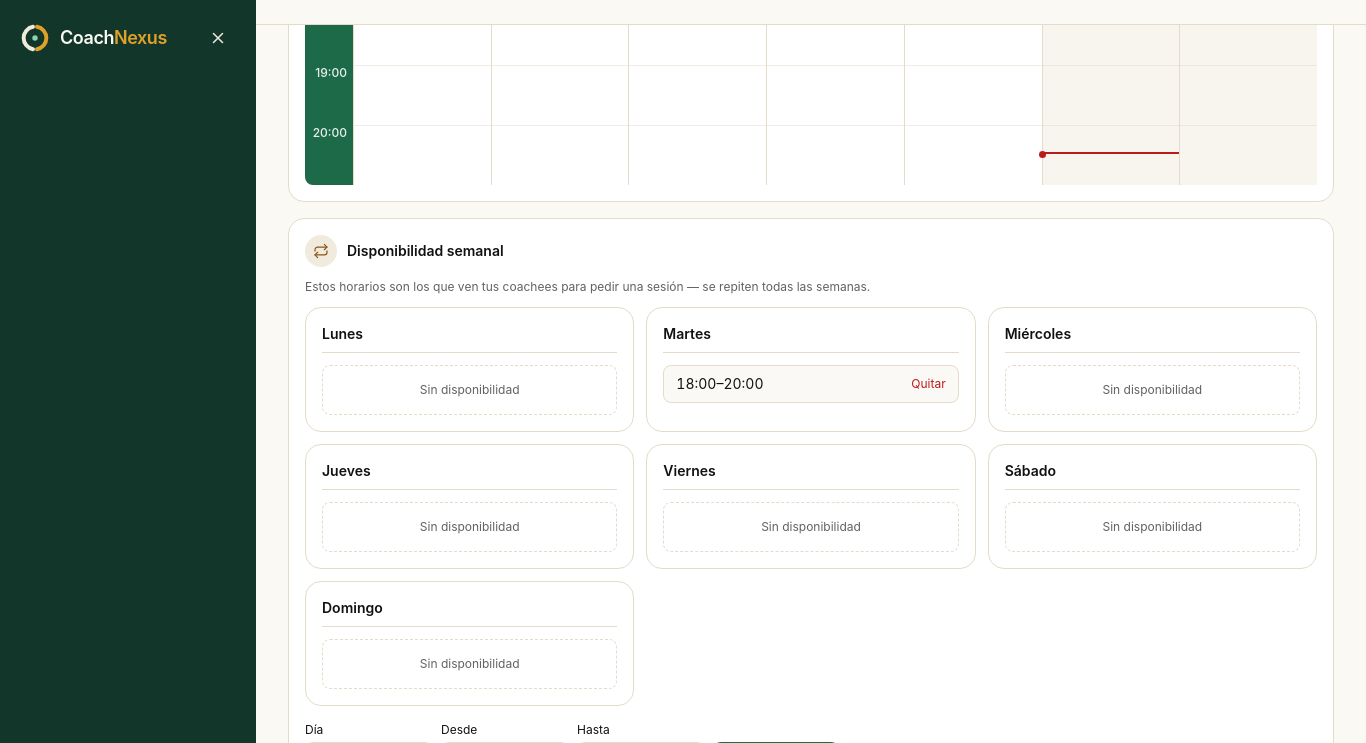
it: AgendaView › Disponibilidad semanal como tarjetas por día › elimina un bloque al hacer clic en "Quitar" dentro de su tarjeta de día
(page scrolled)
Click the button "Quitar" at {"x": 928, "y": 384}, box x1=911 y1=376 x2=946 y2=392
(page scrolled)
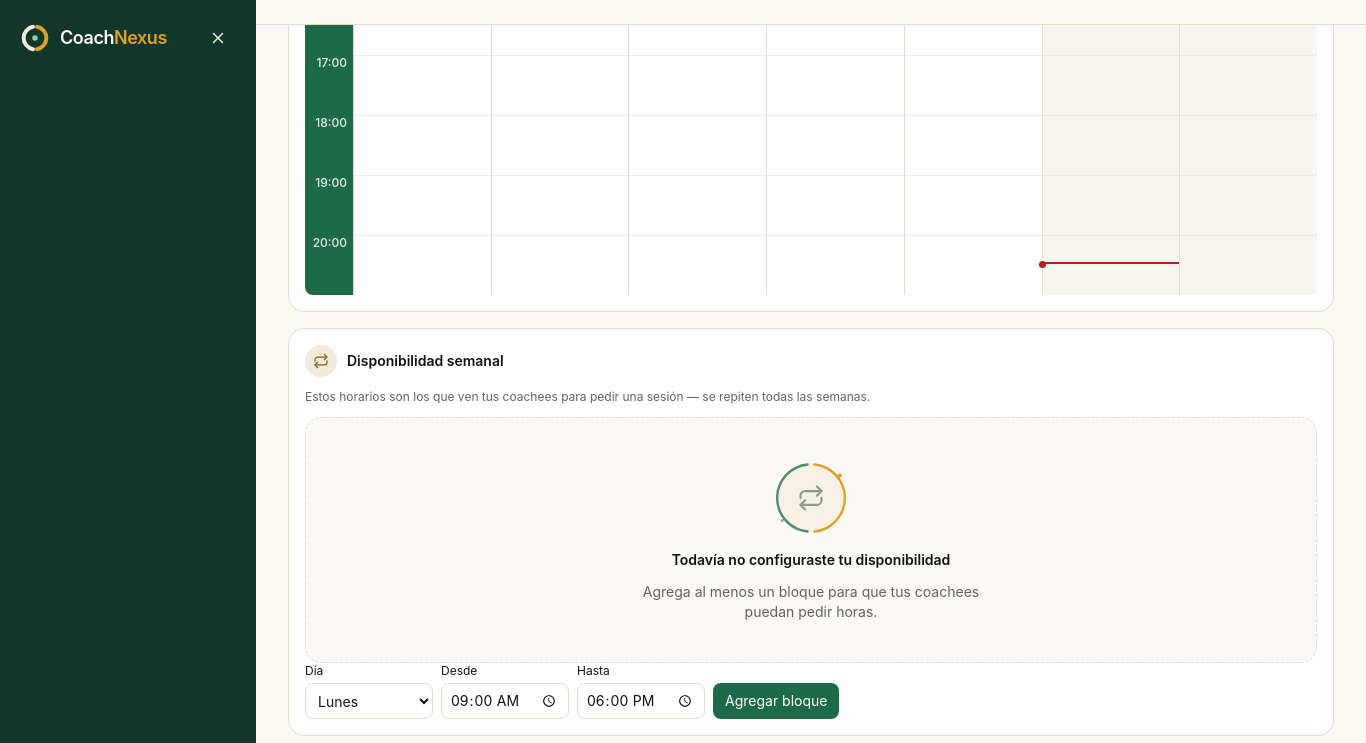
expect the text "18:00–20:00" is gone: met
